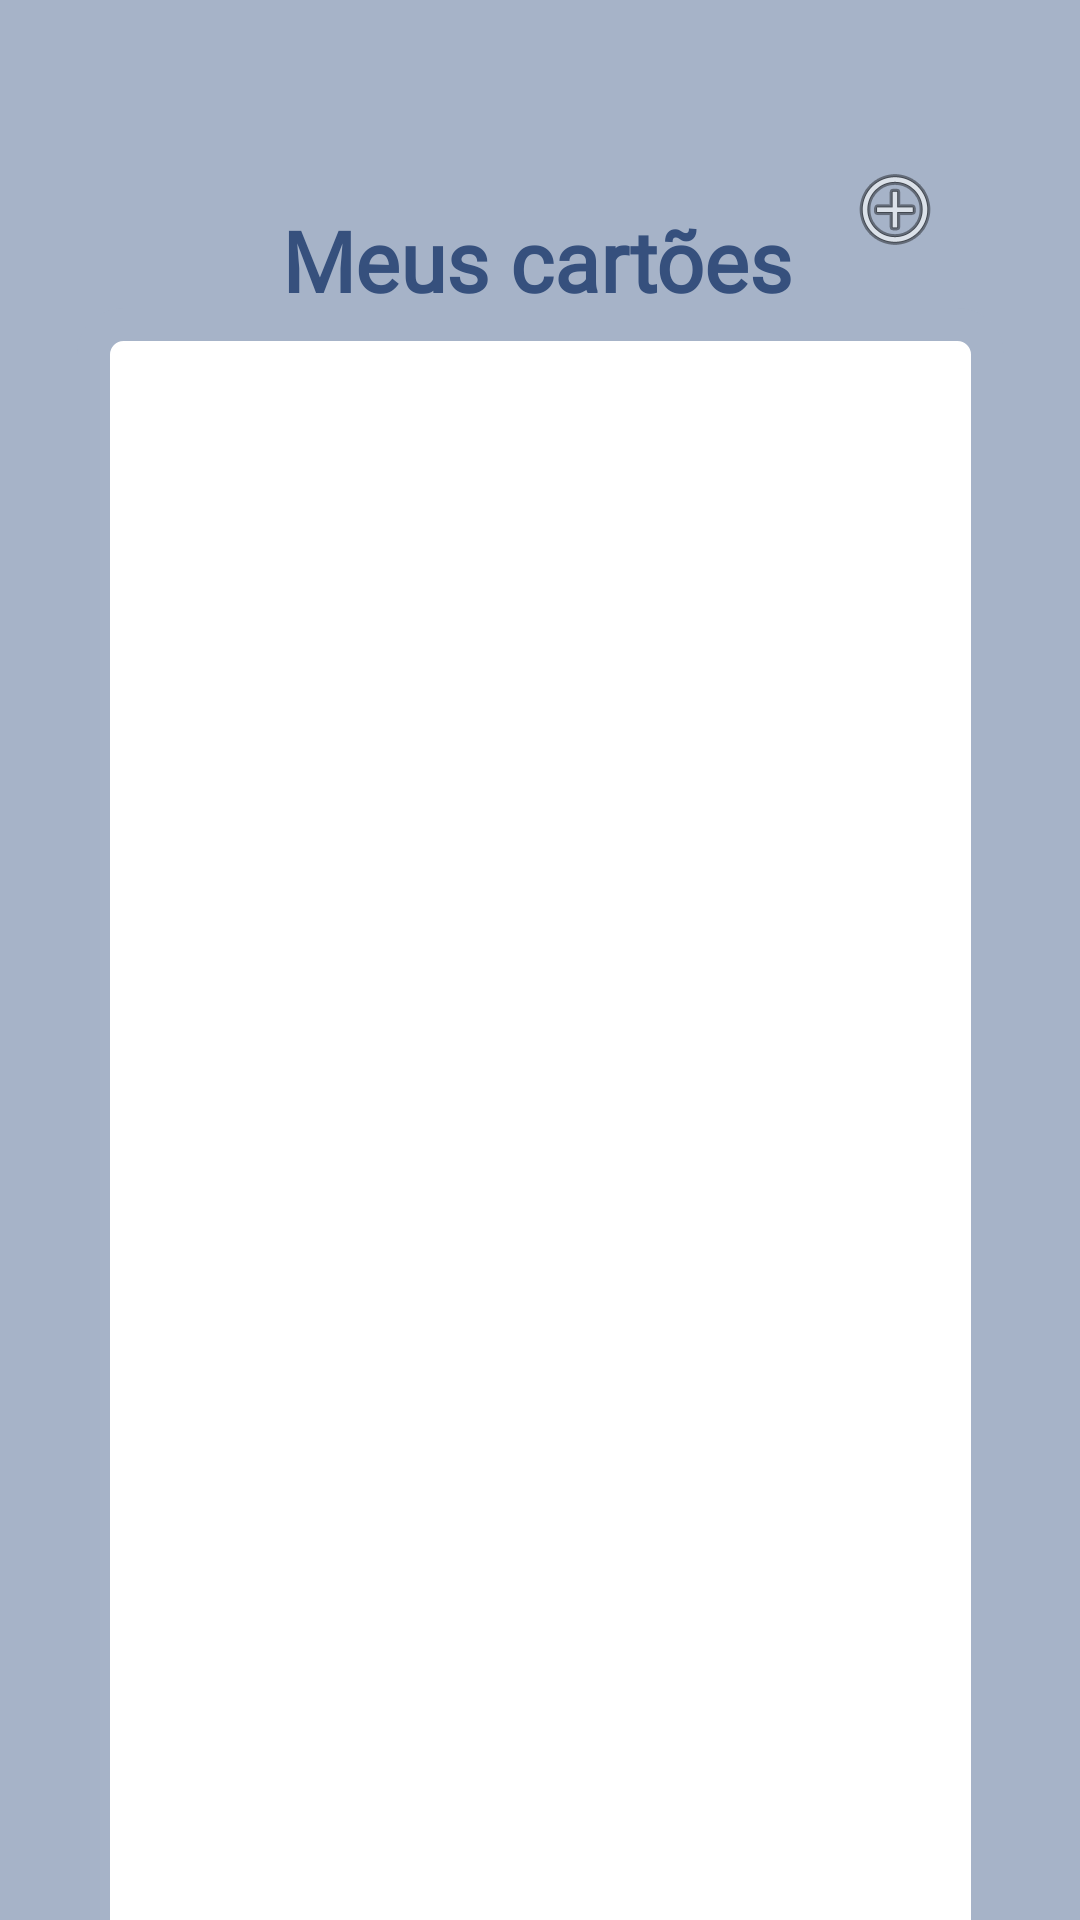

Icon bounding boxes for this 1080px x 1920px phone screenshot, format [x1=x1, y1=y1, x2=x2, y2=y2]:
add: [x1=859, y1=174, x2=931, y2=245]
